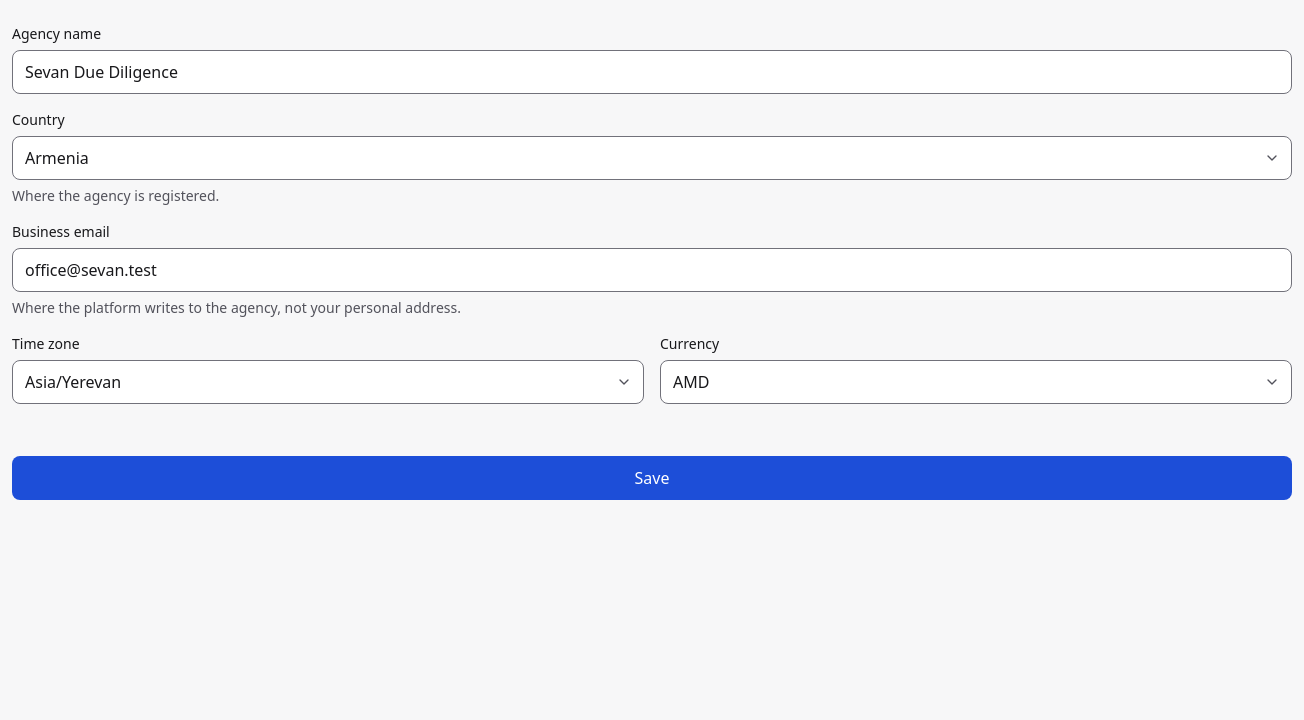
Test: an agency’s details (T-150) › the owner’s form › sends nothing when nothing changed
What coordinates should you click on to do the following:
click the button "Save"
I would click on:
 (652, 478)
Its box is left=12, top=456, right=1292, bottom=500.
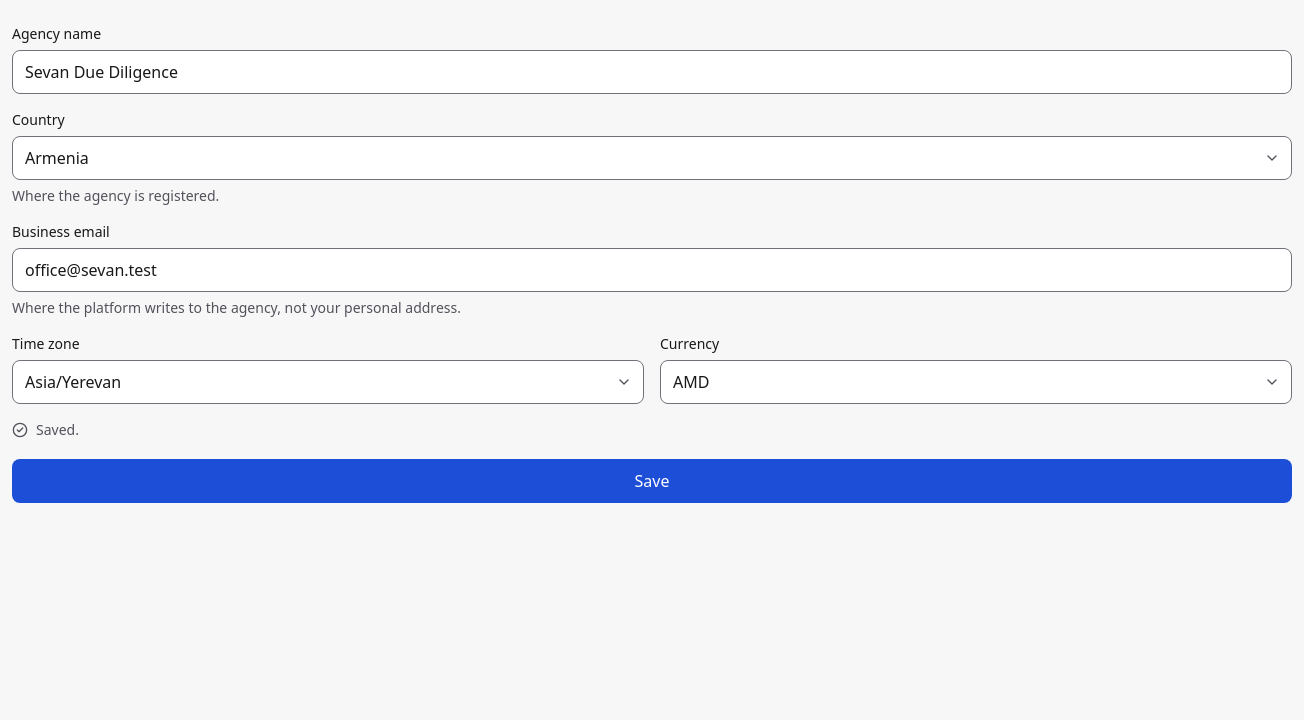
Now the text "Saved." is shown, box left=12, top=420, right=79, bottom=440
